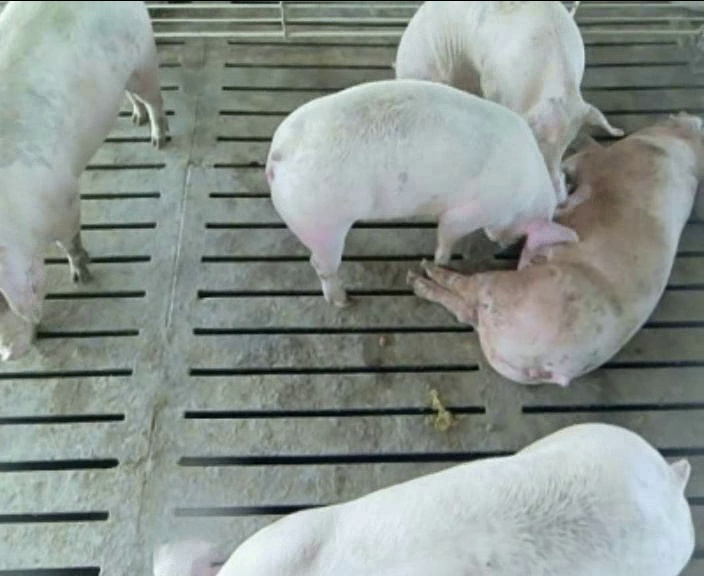pig: (408, 116, 703, 385), (266, 80, 574, 305), (0, 2, 167, 359), (395, 2, 622, 200)
